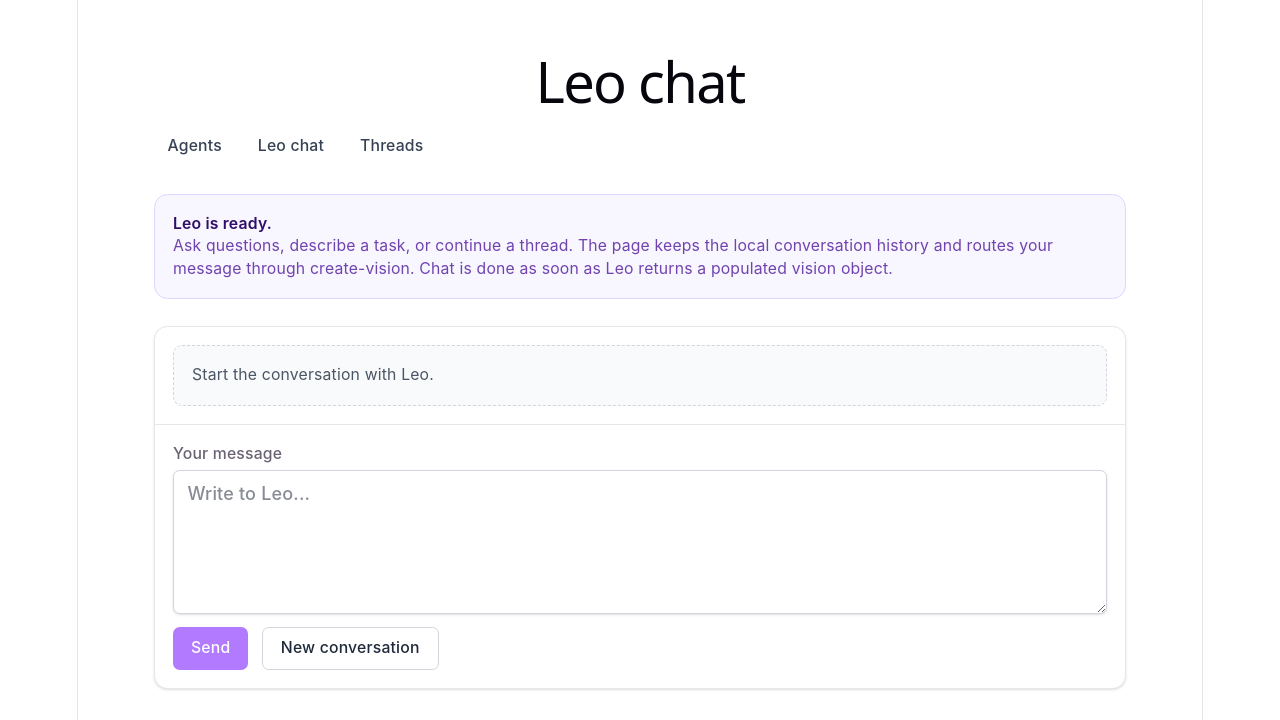
it: LeoChatPage › marks chat as done when vision is returned
Type "Define my vision" into the text box labelled "Your message" at point(640, 542), box x1=173 y1=470 x2=1107 y2=614
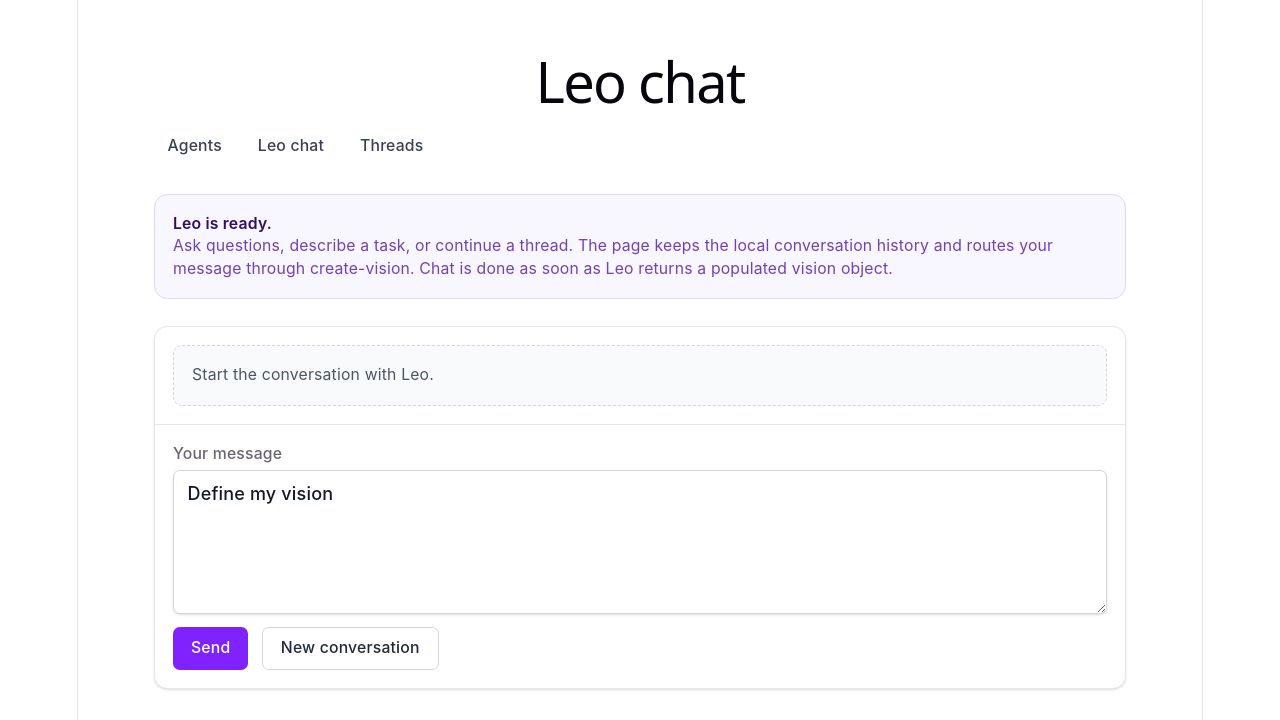
Click the button "Send" at point(211, 648), box x1=173 y1=627 x2=248 y2=670
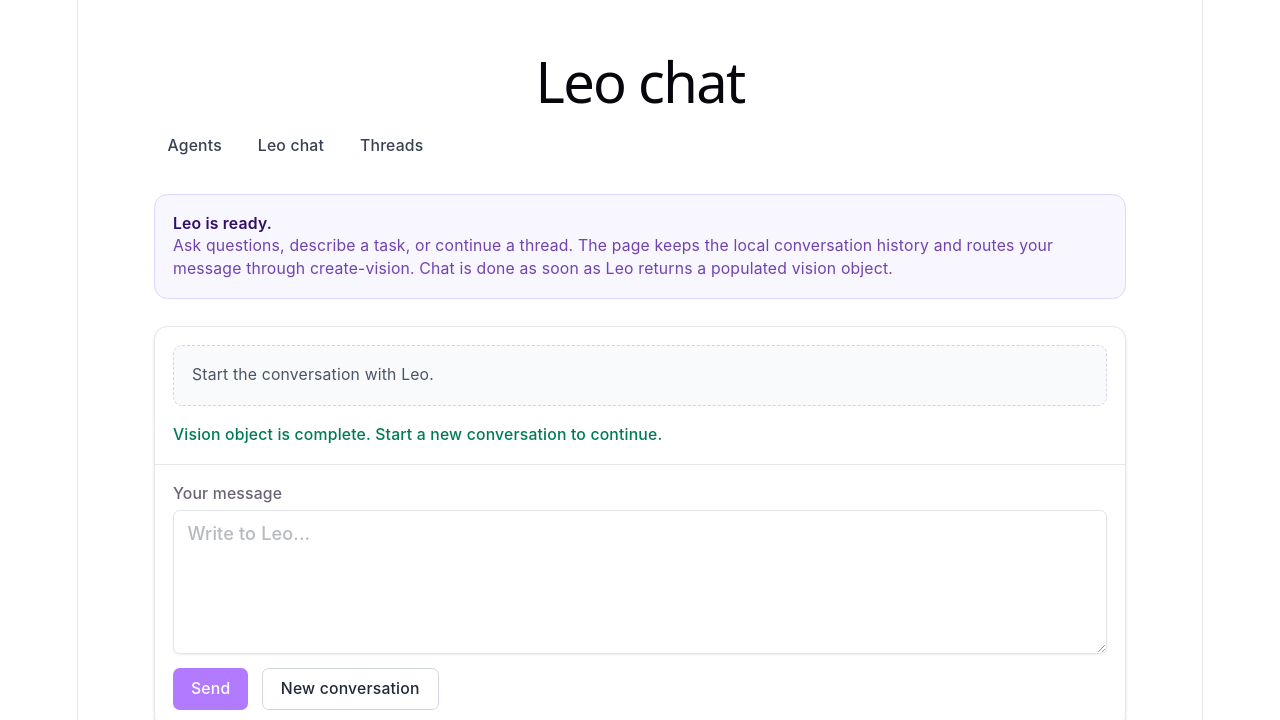
Check: the text "Vision object is complete" is shown, box x1=173 y1=425 x2=662 y2=444
Check: the text box labelled "Your message" is disabled, box x1=173 y1=510 x2=1107 y2=654
